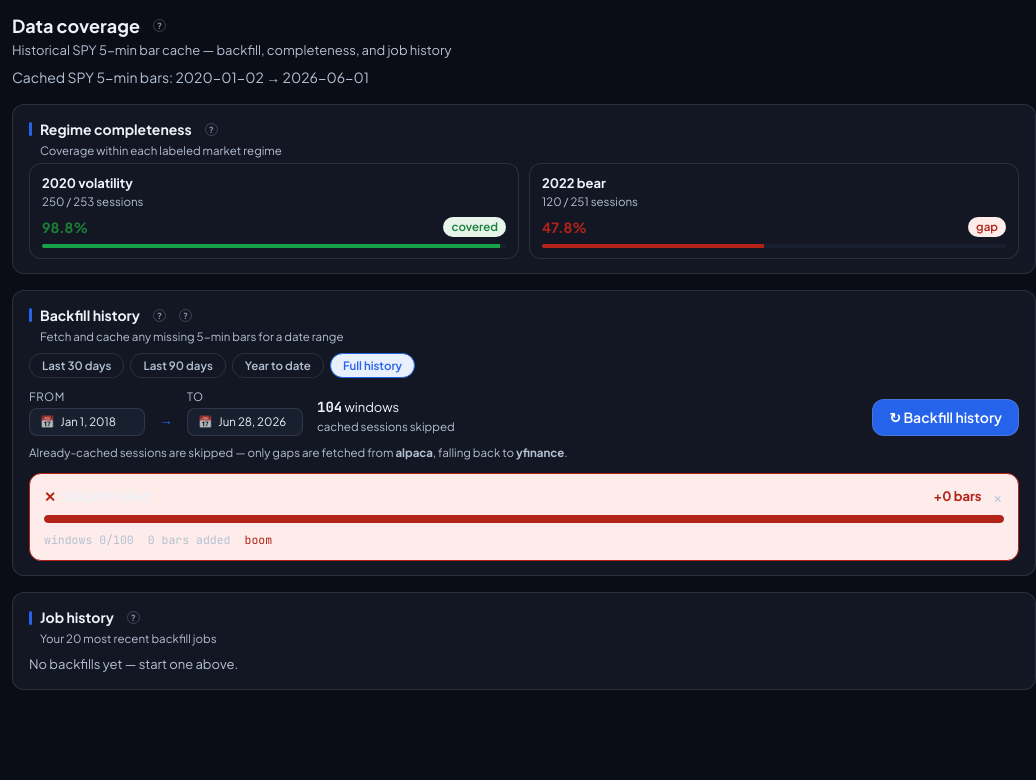
it: DataCoveragePanel › failed panel stays until manually dismissed
Expected: the element with test id "backfill-progress" is shown, top-left (29, 473), bottom-right (1019, 561)
Click the button named "dismiss" at (998, 496), box top-left (992, 489), bottom-right (1004, 503)
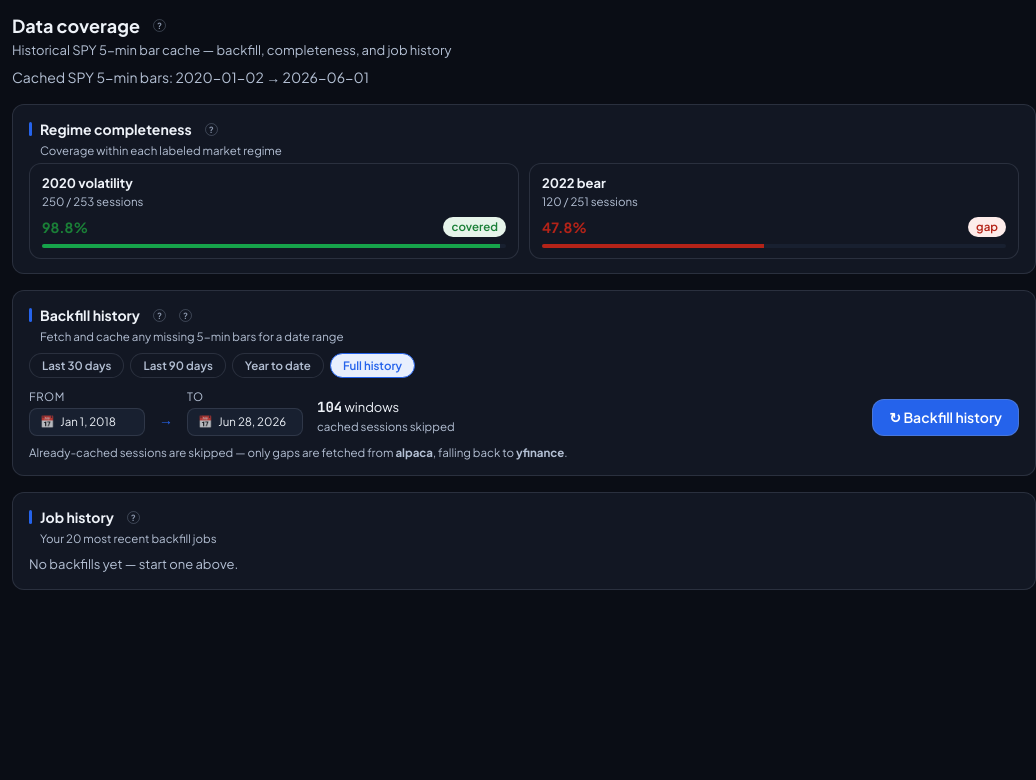
Result: the element with test id "backfill-progress" is gone
